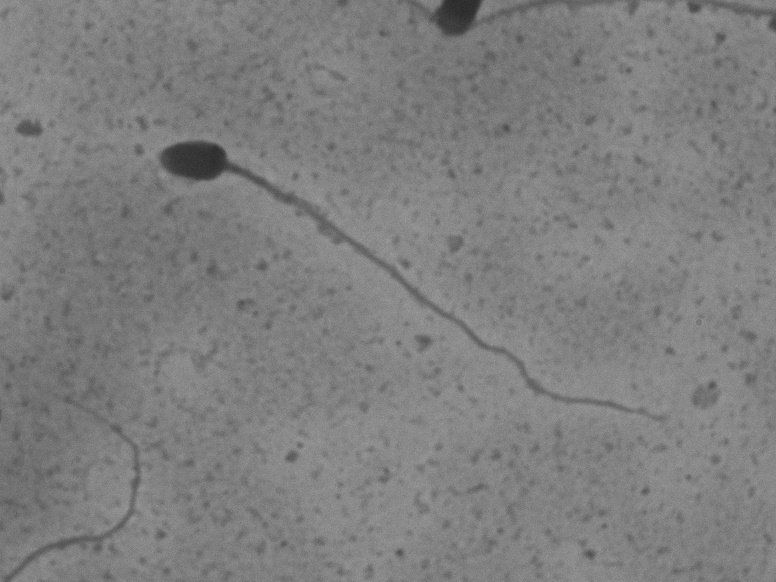Abnormal: (138, 111, 671, 461)
